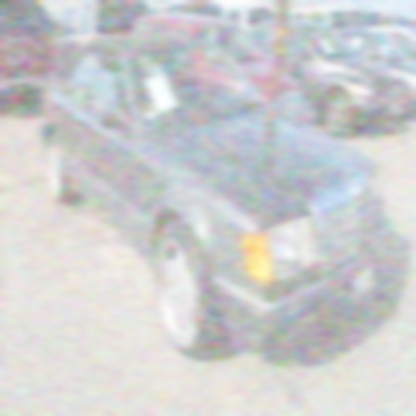Vehicle: (37, 33, 394, 360)
